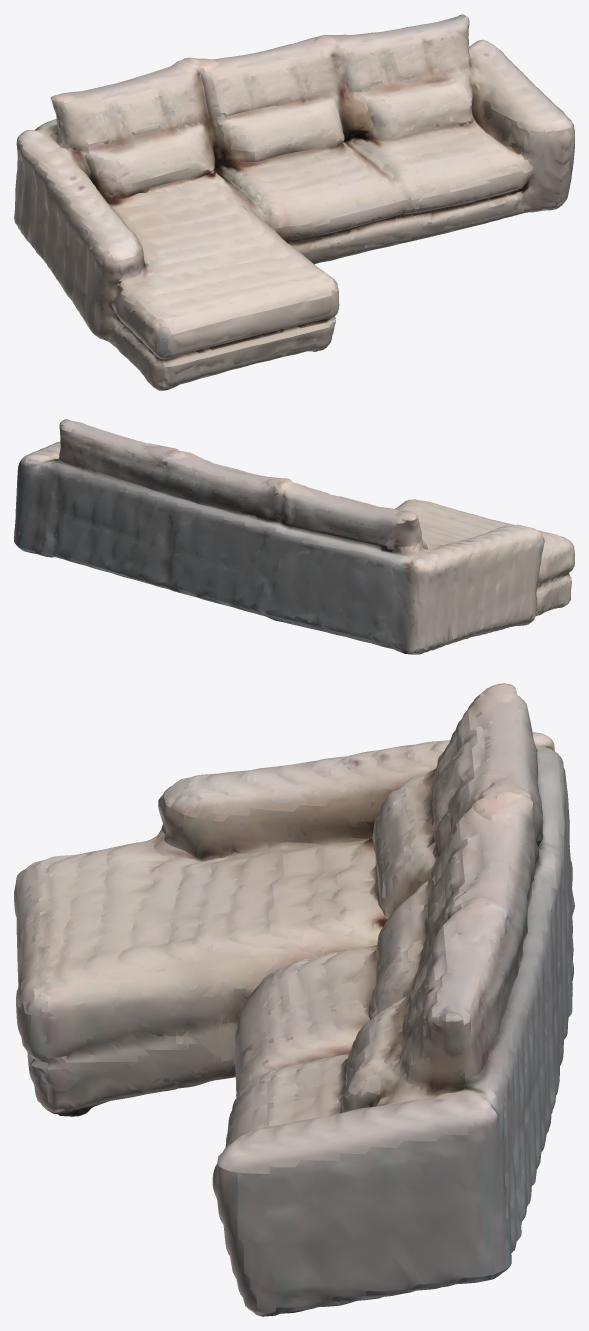
The picture shows the model from 3 angles, top to bottom: view 1: azimuth 30°, elevation 25°; view 2: azimuth 150°, elevation 25°; view 3: azimuth 270°, elevation 25°; orthographic projection. The views are drawn at different scales.
Visible parts, largest first — view 1: geometry_0; view 2: geometry_0; view 3: geometry_0.
Boxes of the visible parts, box(x1,y1,x2,y2) form: geometry_0: box(14, 14, 574, 390); geometry_0: box(14, 419, 574, 654); geometry_0: box(14, 683, 574, 1316).
Size of the model in its own units: 1.02 by 0.3865 by 0.5968.
Materials: 1 (1 with a texture image).
